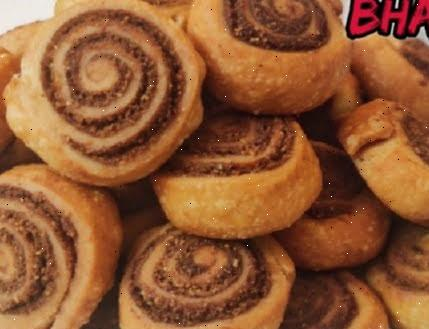bhakarwadi: (3, 38, 429, 328)
